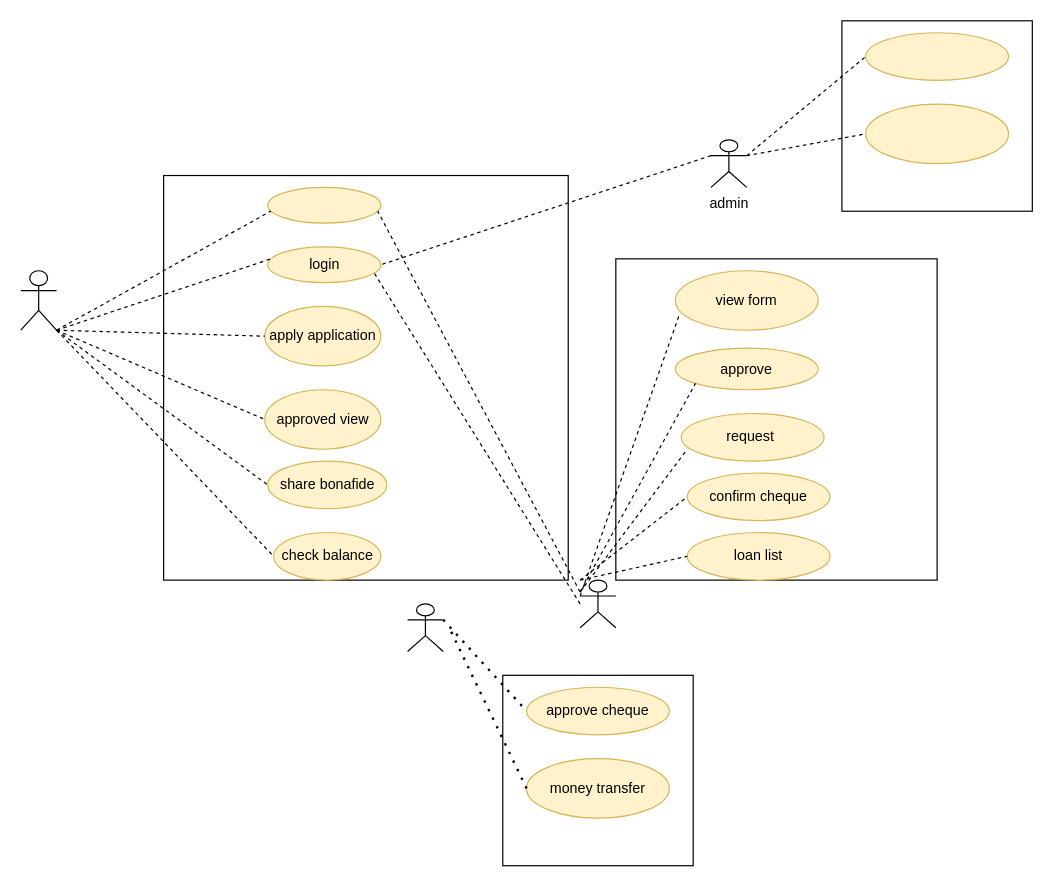
Image size: 1053x887. Some labels were removed from this diagram. Each missing label, with the centre of its shape:
"approve manager" belongs at point 937,56.
"cashier" belongs at point 424,627.
"maintain records" belongs at point 937,133.
"manager" belongs at point 597,603.
"register" belongs at point 324,204.
"user" belongs at point 38,300.
